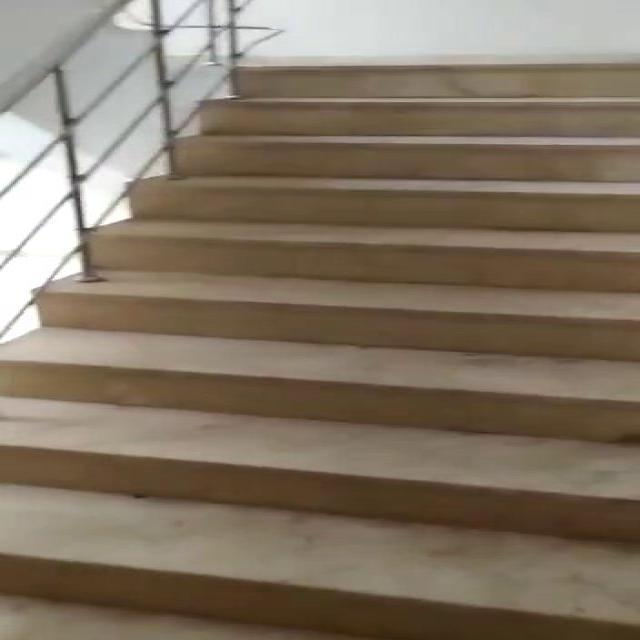stairs: (0, 59, 638, 639)
